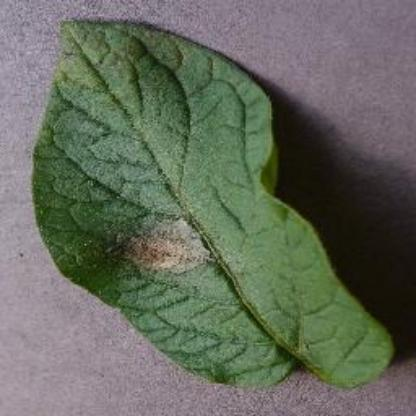Late-Blight: (35, 7, 391, 406)
